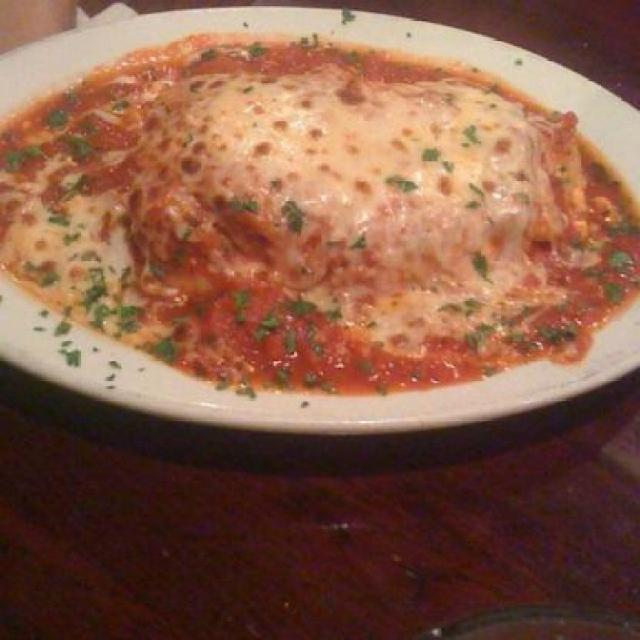Lasagna: (114, 48, 624, 374)
